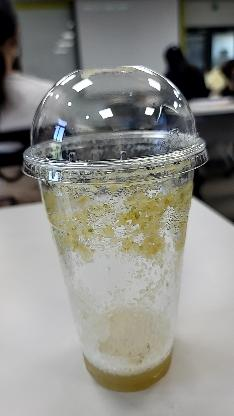Plastic Cup: (21, 64, 209, 394), (20, 64, 209, 184)
